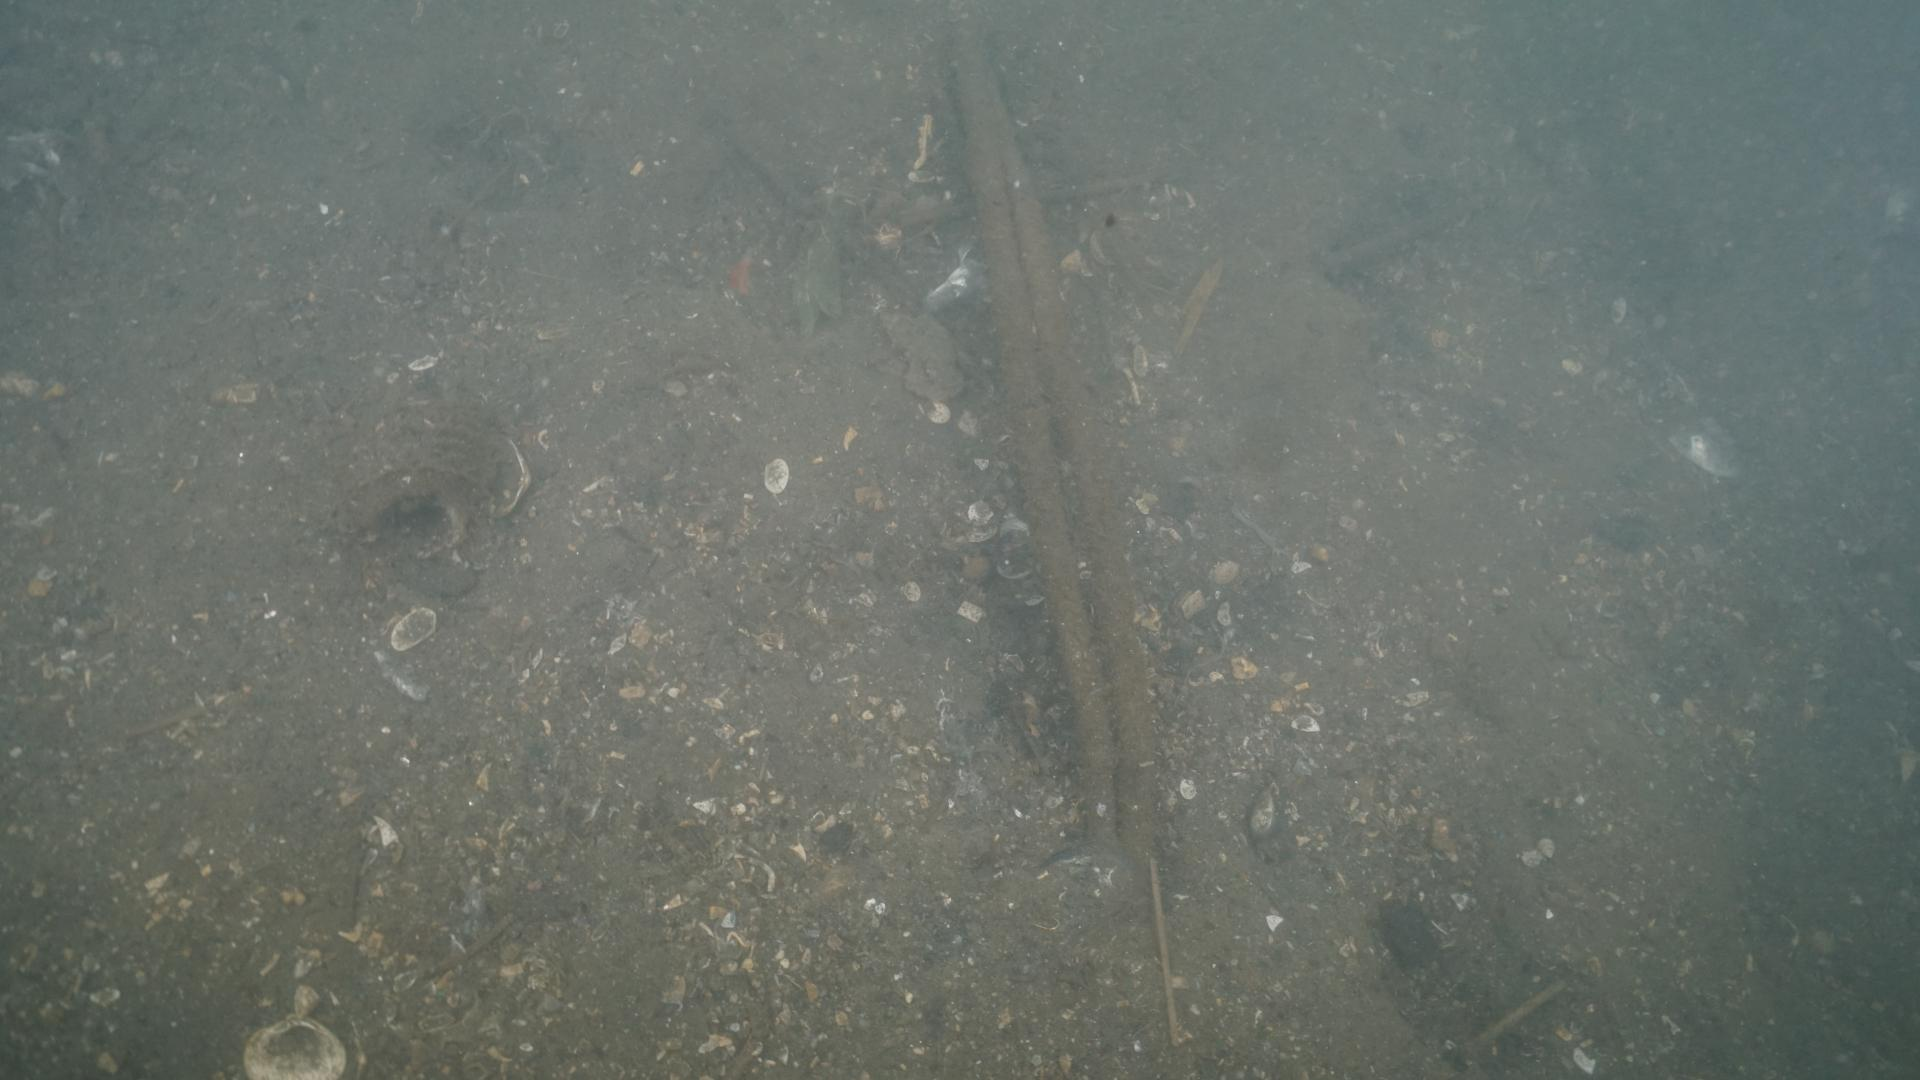rope: (938, 3, 1159, 866)
